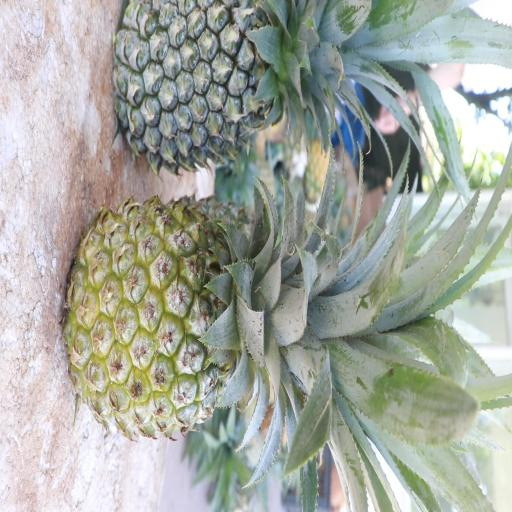------------------------------: (62, 192, 355, 442)
